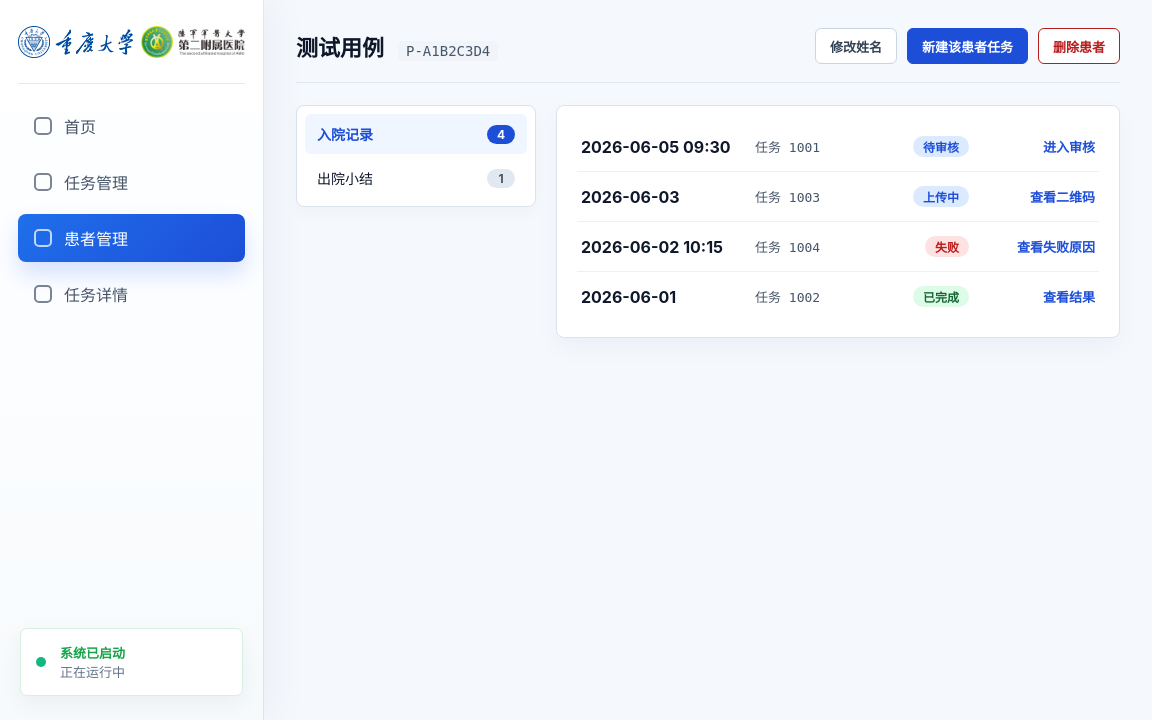
Test case: PatientDetailPage › loads review result on demand when a done task is expanded
The image size is (1152, 720).
Expected: the text "入院记录" is shown, [317,126,373,143]
Click the button with test id "patient-record-task-1002" at coordinates (629, 296), box [577,272,1099,321]
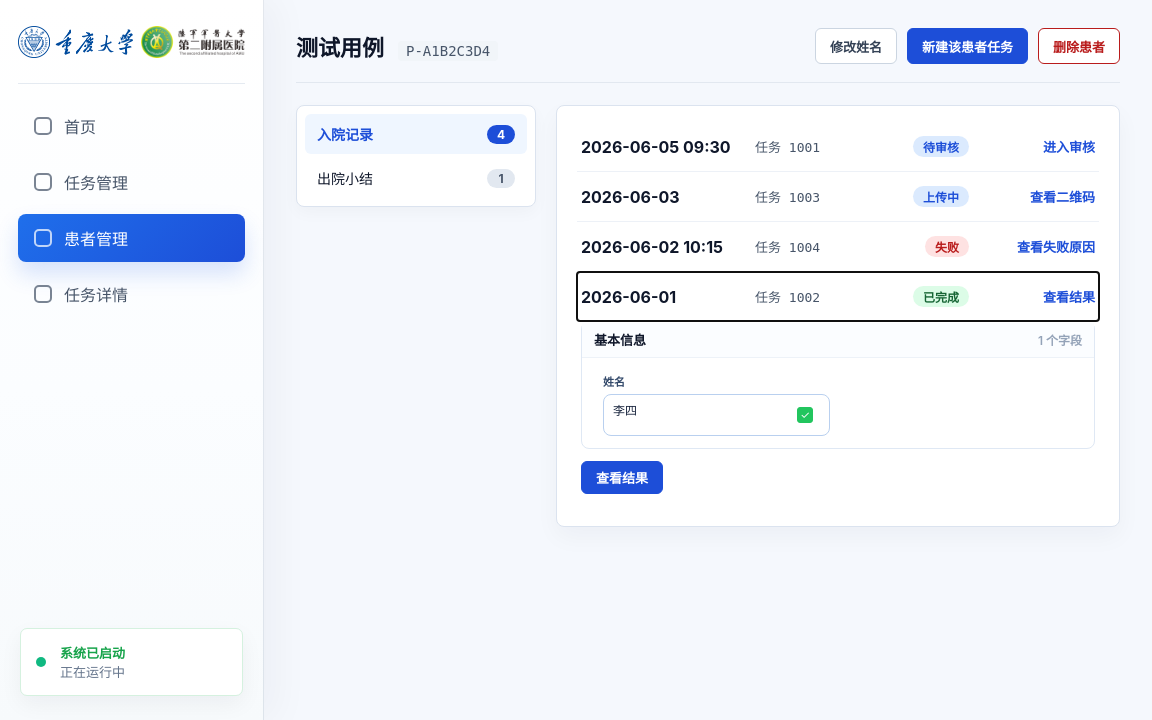
Now the text box "李四" is shown, box [607,398,791,432]
